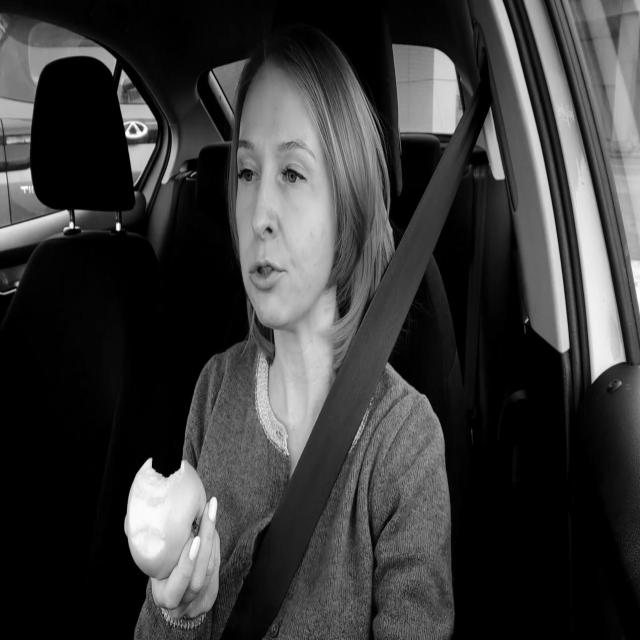Eating: (121, 448, 212, 586)
Seatbelt: (224, 77, 490, 640)
